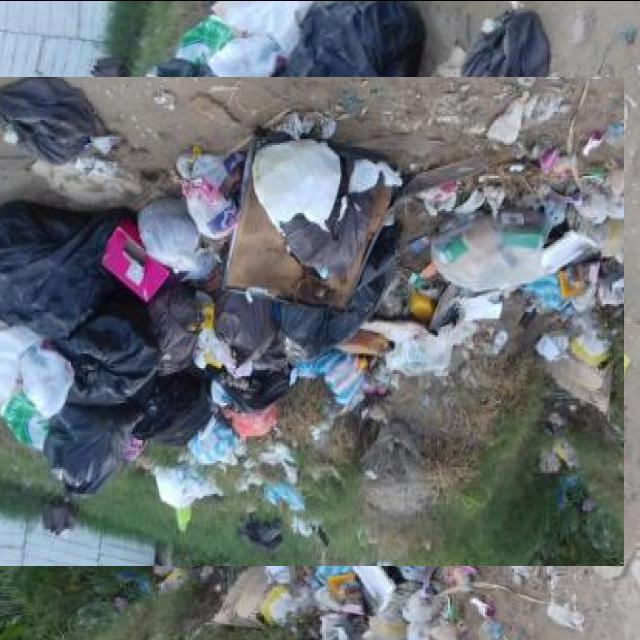garbage: (22, 38, 587, 602)
